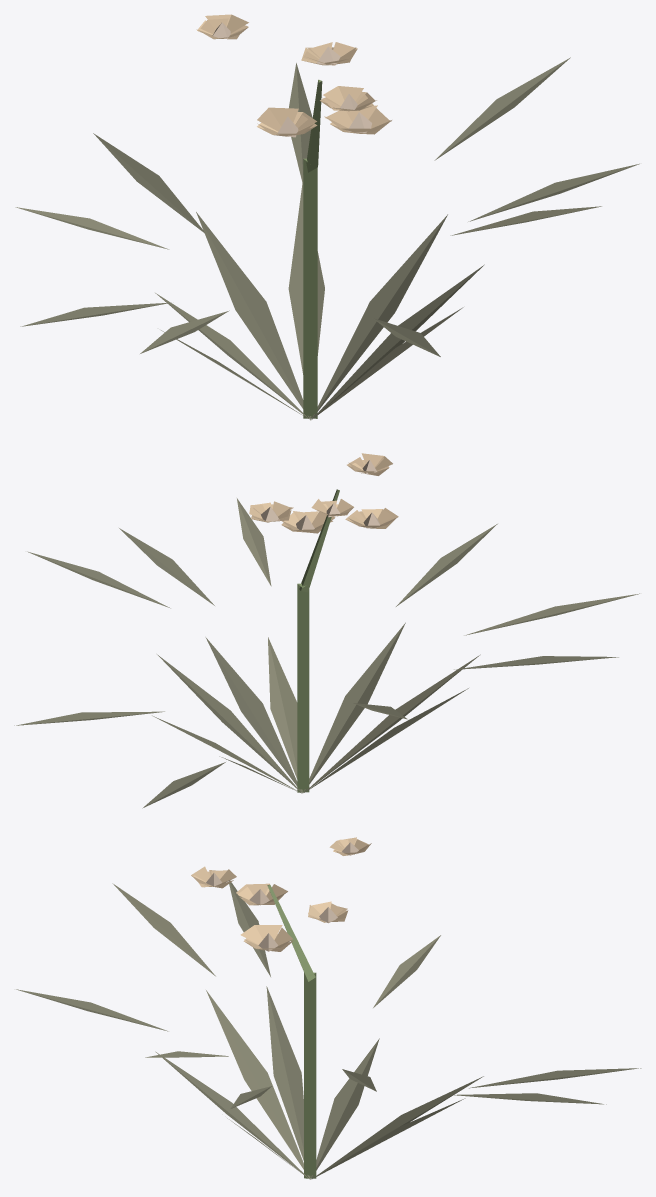
The model's file is hua.lan@fruiting__winter.glb.
3 renders of one model, top to bottom at view 1: azimuth 30°, elevation 25°; view 2: azimuth 150°, elevation 25°; view 3: azimuth 270°, elevation 25°, orthographic. The views are drawn at different scales.
Visible parts, largest first — view 1: hua.lan@fruiting__winter; view 2: hua.lan@fruiting__winter; view 3: hua.lan@fruiting__winter.
Part boxes in pixels (x1=…): hua.lan@fruiting__winter: x1=15, y1=14, x2=639, y2=420; hua.lan@fruiting__winter: x1=14, y1=453, x2=639, y2=808; hua.lan@fruiting__winter: x1=16, y1=837, x2=641, y2=1179.
Size of the model in its own units: 1.35 by 0.7869 by 1.43.
